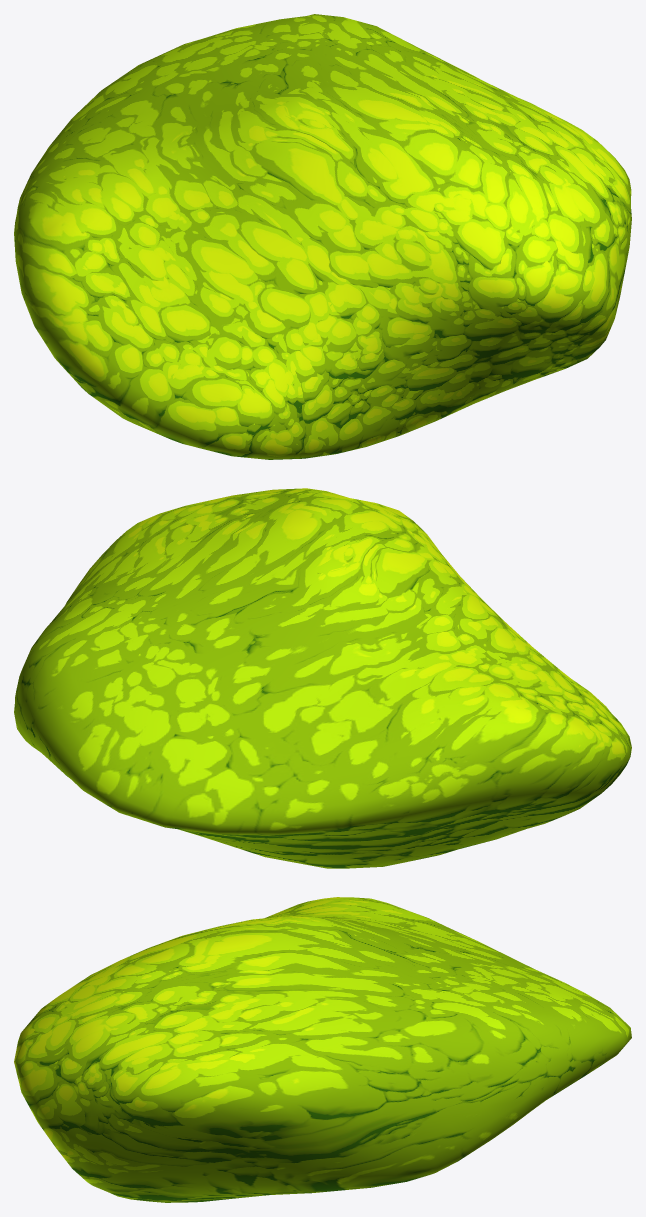
Rendered from leaves7.glb.
3 views of the same model, one above another, from view 1: azimuth 30°, elevation 25°; view 2: azimuth 150°, elevation 25°; view 3: azimuth 270°, elevation 25° (orthographic). The views are drawn at different scales.
Parts seen in each view (by area): view 1: LP.003; view 2: LP.003; view 3: LP.003.
Part boxes in pixels (bbox=[...]): LP.003: bbox=[14, 14, 631, 459]; LP.003: bbox=[14, 488, 631, 868]; LP.003: bbox=[14, 897, 631, 1202].
Bounding box in the file's own units: 3.46 × 1.8 × 3.94.
Materials: 1 (1 with a texture image).
